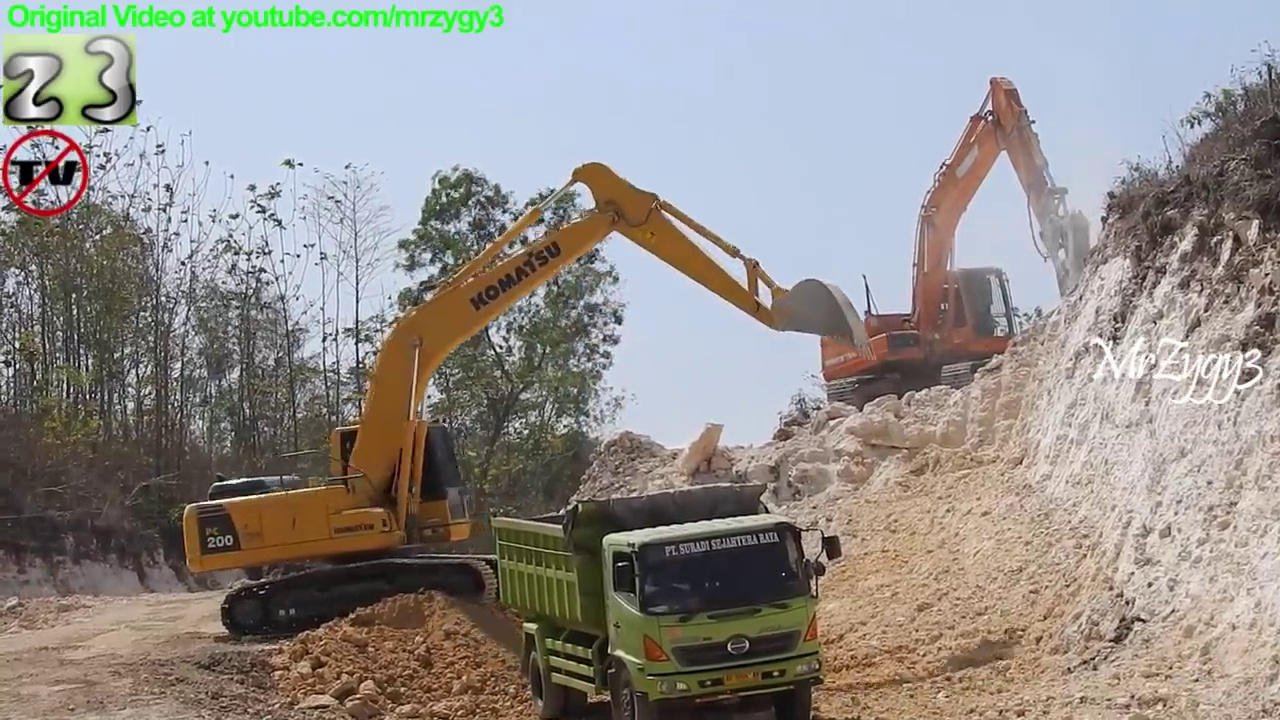excavator: (178, 159, 881, 645), (817, 71, 1100, 417)
truck: (486, 478, 843, 720)
